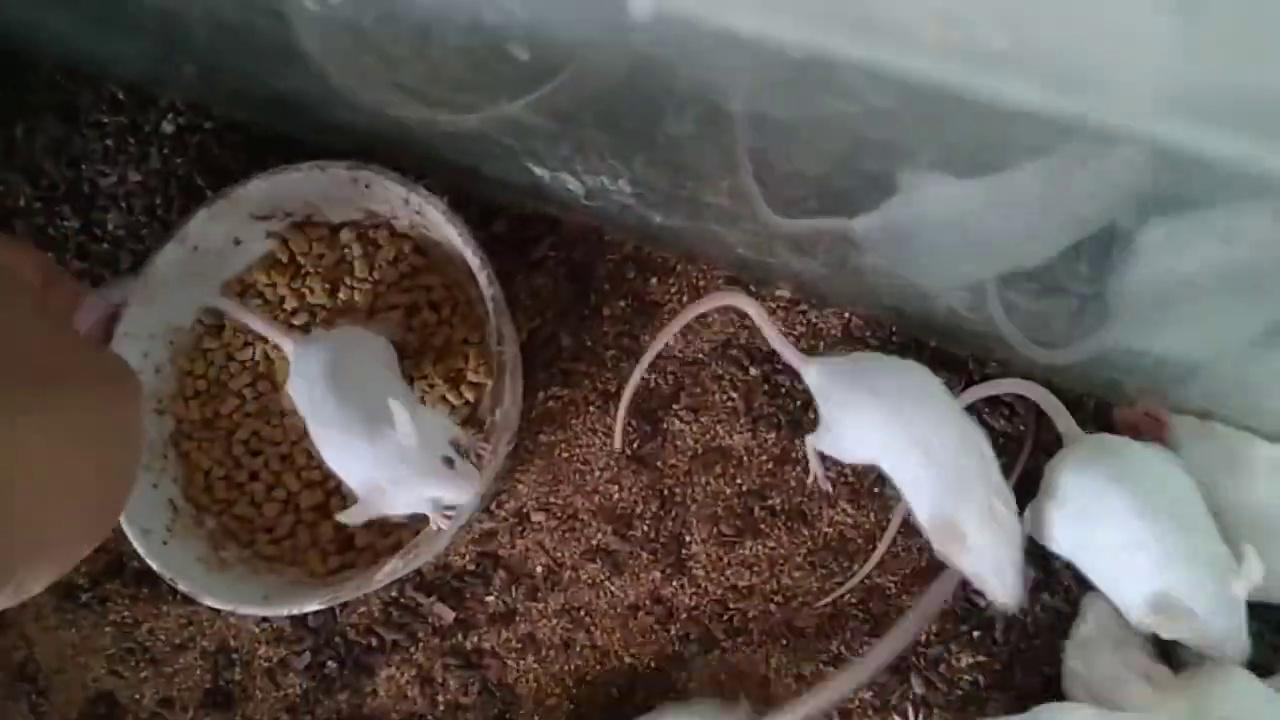rat: (614, 292, 1027, 610), (813, 380, 1266, 664), (70, 277, 490, 532)
